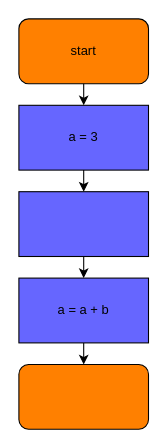
Image size: 167x448. Some labels were removed from this diagram. Here are the shapes that lost their labels. From the top down, the centre of each, then its label:
At point 83,223: "b = 4".
At point 83,396: "end".
